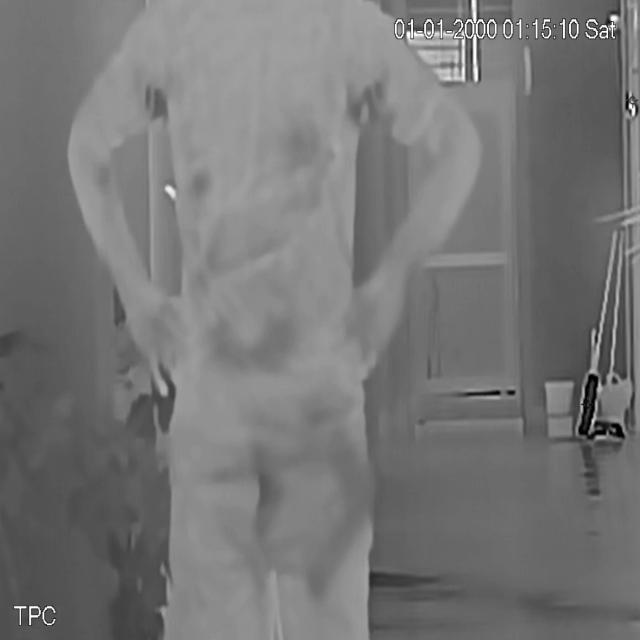Weapon: (306, 436, 376, 628)
